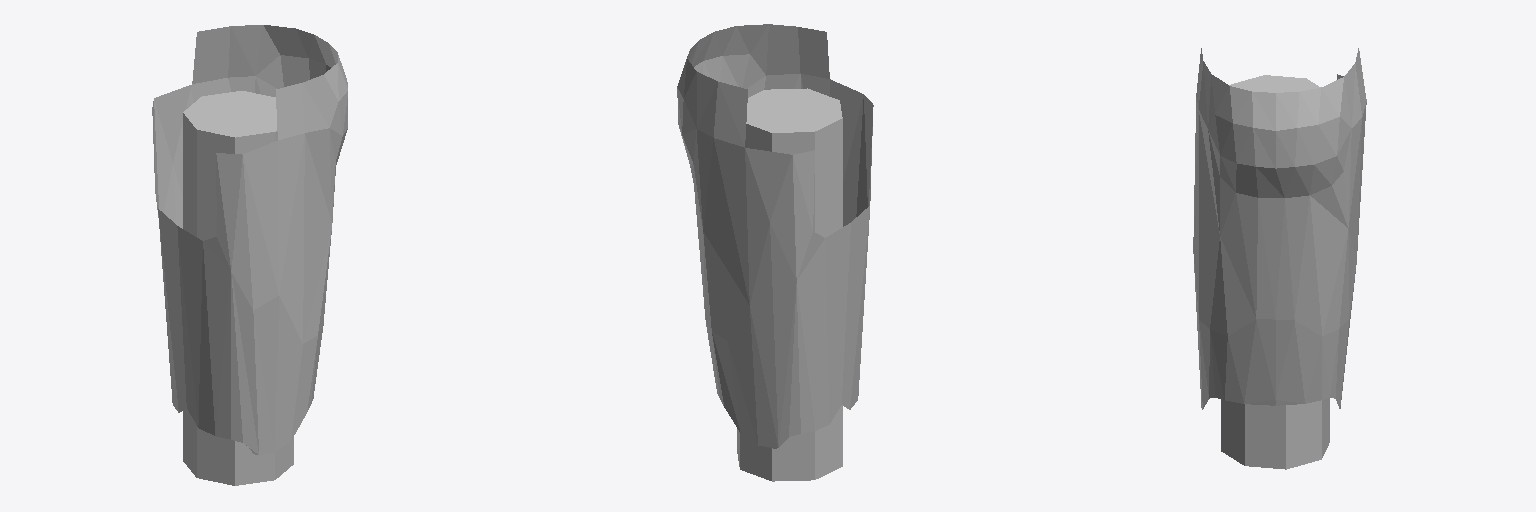
Rendered from icub_simple_collision_l_lower_leg.obj.
The picture shows the model from 3 angles: view 1: azimuth 30°, elevation 25°; view 2: azimuth 150°, elevation 25°; view 3: azimuth 270°, elevation 25°; orthographic projection.
Parts seen in each view (by area): view 1: l_shank_mesh_l_lowerleg; view 2: l_shank_mesh_l_lowerleg; view 3: l_shank_mesh_l_lowerleg.
Boxes of the visible parts, <box> form: l_shank_mesh_l_lowerleg: <box>152,25,347,485</box>; l_shank_mesh_l_lowerleg: <box>677,24,873,481</box>; l_shank_mesh_l_lowerleg: <box>1193,48,1366,469</box>.
Size of the model in its own units: 0.1035 by 0.2446 by 0.0961.